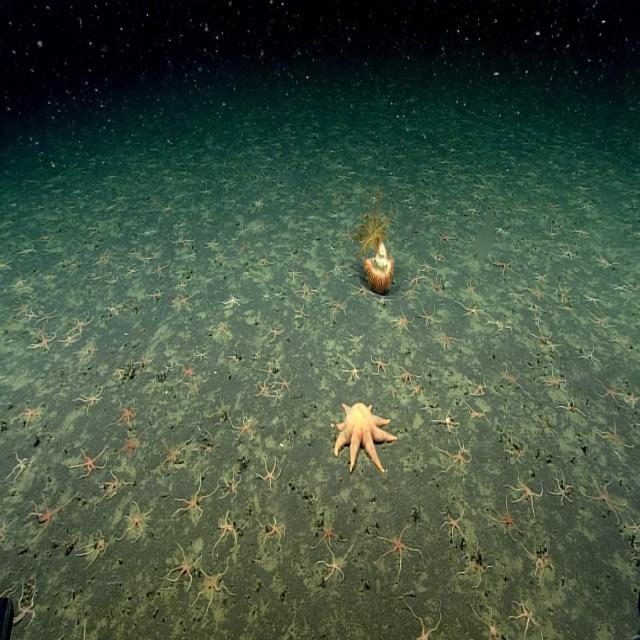brittle-stars: (174, 476, 213, 522), (377, 528, 416, 572), (584, 474, 621, 520), (197, 565, 230, 611), (170, 546, 202, 590), (403, 604, 442, 640), (512, 598, 546, 639), (548, 274, 580, 314), (121, 502, 152, 543), (493, 499, 522, 541), (31, 494, 61, 534), (472, 604, 505, 640), (317, 546, 349, 583), (511, 476, 542, 514), (461, 541, 489, 583), (75, 444, 109, 478), (13, 587, 40, 628), (440, 446, 473, 476), (121, 428, 149, 462), (162, 438, 190, 472), (84, 529, 109, 567), (442, 508, 466, 544), (599, 419, 626, 451), (314, 519, 341, 550), (214, 512, 237, 548), (528, 548, 552, 582), (260, 517, 286, 548), (552, 473, 574, 508), (534, 404, 558, 436), (594, 377, 619, 406), (9, 450, 31, 482), (102, 471, 126, 500), (234, 414, 258, 442), (260, 456, 282, 486), (341, 327, 367, 352), (78, 386, 102, 410), (559, 394, 583, 418), (116, 402, 138, 428), (61, 625, 99, 640), (32, 331, 55, 355), (435, 327, 458, 351), (19, 404, 42, 428), (324, 259, 348, 282), (542, 366, 564, 391), (224, 470, 242, 500), (398, 362, 421, 385), (436, 410, 459, 432), (199, 432, 217, 460), (501, 367, 521, 391), (508, 438, 528, 462), (420, 394, 440, 418), (213, 396, 230, 422), (249, 338, 266, 364), (490, 314, 511, 335), (40, 304, 61, 325), (461, 301, 483, 321), (581, 345, 601, 367), (344, 359, 364, 381), (468, 376, 488, 398), (72, 311, 92, 333), (372, 353, 391, 376), (392, 310, 411, 333), (136, 350, 155, 373), (0, 514, 14, 545), (596, 253, 617, 273), (419, 304, 438, 326), (466, 405, 488, 424), (81, 340, 99, 363), (530, 324, 550, 344), (328, 296, 347, 317), (326, 190, 347, 209), (84, 270, 106, 288), (148, 284, 164, 308), (494, 257, 514, 276), (459, 230, 479, 249), (225, 346, 242, 368), (351, 282, 371, 300), (522, 298, 546, 313), (324, 206, 344, 224), (614, 333, 632, 352), (403, 202, 422, 220), (494, 221, 512, 239), (591, 312, 610, 329), (626, 514, 640, 537), (298, 282, 318, 298), (561, 242, 577, 262), (180, 358, 196, 378), (188, 374, 204, 394), (105, 270, 121, 290), (224, 291, 242, 308), (584, 289, 601, 307), (424, 209, 442, 226), (61, 332, 80, 348), (10, 275, 28, 291), (255, 379, 270, 398), (625, 390, 639, 410), (510, 286, 526, 303), (546, 339, 562, 356), (106, 302, 121, 320), (175, 233, 193, 248), (429, 275, 442, 295), (614, 280, 630, 296), (39, 270, 55, 286), (154, 264, 169, 281), (531, 285, 548, 300), (177, 292, 192, 309), (13, 298, 28, 315), (530, 310, 545, 327), (269, 324, 285, 339), (256, 251, 271, 267), (419, 260, 434, 276), (432, 246, 446, 263), (579, 200, 596, 214), (201, 180, 215, 197), (215, 320, 228, 338), (195, 347, 210, 362), (125, 266, 140, 281), (278, 376, 292, 392), (464, 280, 478, 296), (264, 362, 278, 378), (572, 228, 588, 242), (403, 285, 419, 299), (410, 272, 424, 288), (292, 305, 306, 321), (411, 383, 425, 399), (534, 270, 548, 285), (98, 249, 112, 264), (287, 267, 302, 281), (441, 232, 456, 246), (516, 203, 531, 217), (116, 363, 130, 378), (38, 232, 53, 246), (215, 248, 228, 264), (0, 258, 12, 275), (546, 227, 560, 241), (466, 204, 481, 217), (272, 389, 284, 405), (342, 226, 354, 242), (206, 237, 219, 251), (378, 294, 392, 307), (338, 170, 351, 184), (238, 240, 251, 254), (142, 224, 155, 238), (141, 251, 155, 264), (324, 240, 336, 255), (128, 248, 141, 261), (176, 278, 188, 292), (26, 308, 38, 322), (494, 169, 506, 182), (163, 202, 175, 215), (425, 165, 437, 178), (447, 206, 459, 218), (469, 189, 481, 201), (478, 179, 490, 191), (186, 248, 197, 261), (430, 196, 441, 208), (301, 198, 312, 210), (274, 287, 285, 299), (254, 198, 264, 211), (631, 228, 640, 242), (456, 196, 466, 208), (632, 279, 640, 294), (263, 288, 272, 301), (303, 224, 313, 235)
